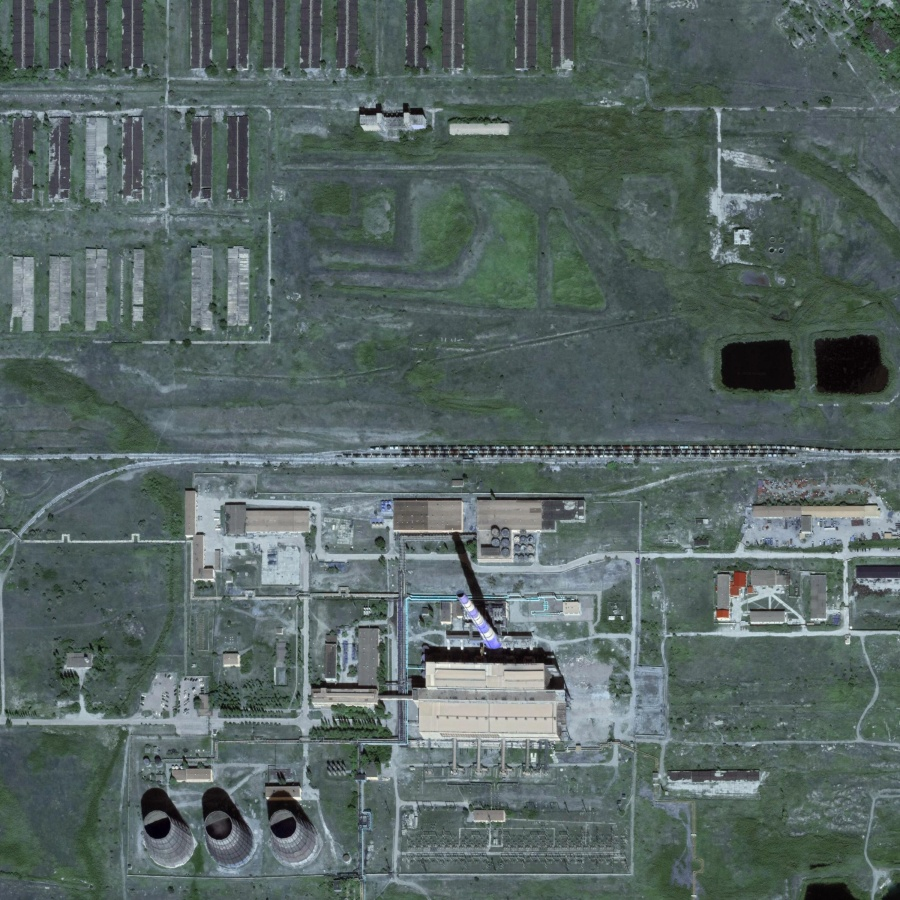PowerPlant: (114, 470, 596, 899)
